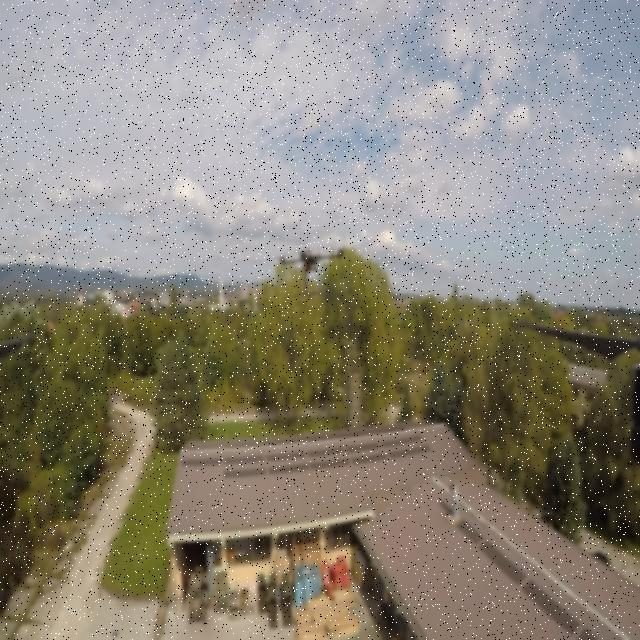UAV: (268, 242, 344, 300)
